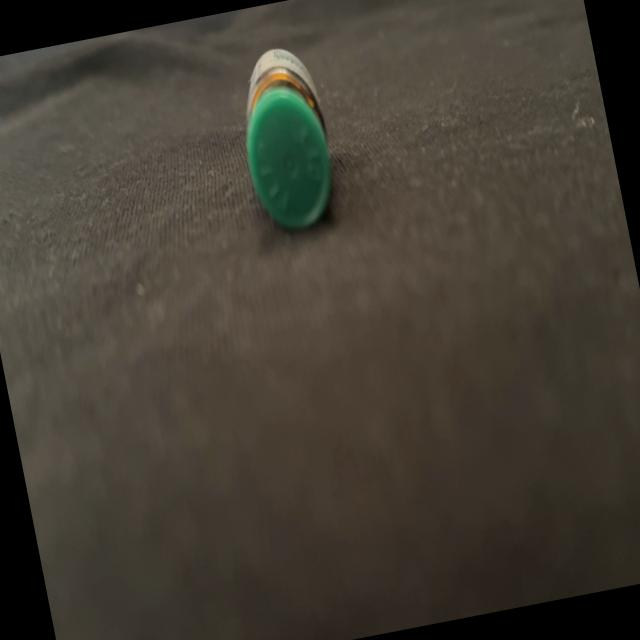midazolm: (230, 45, 342, 235)
